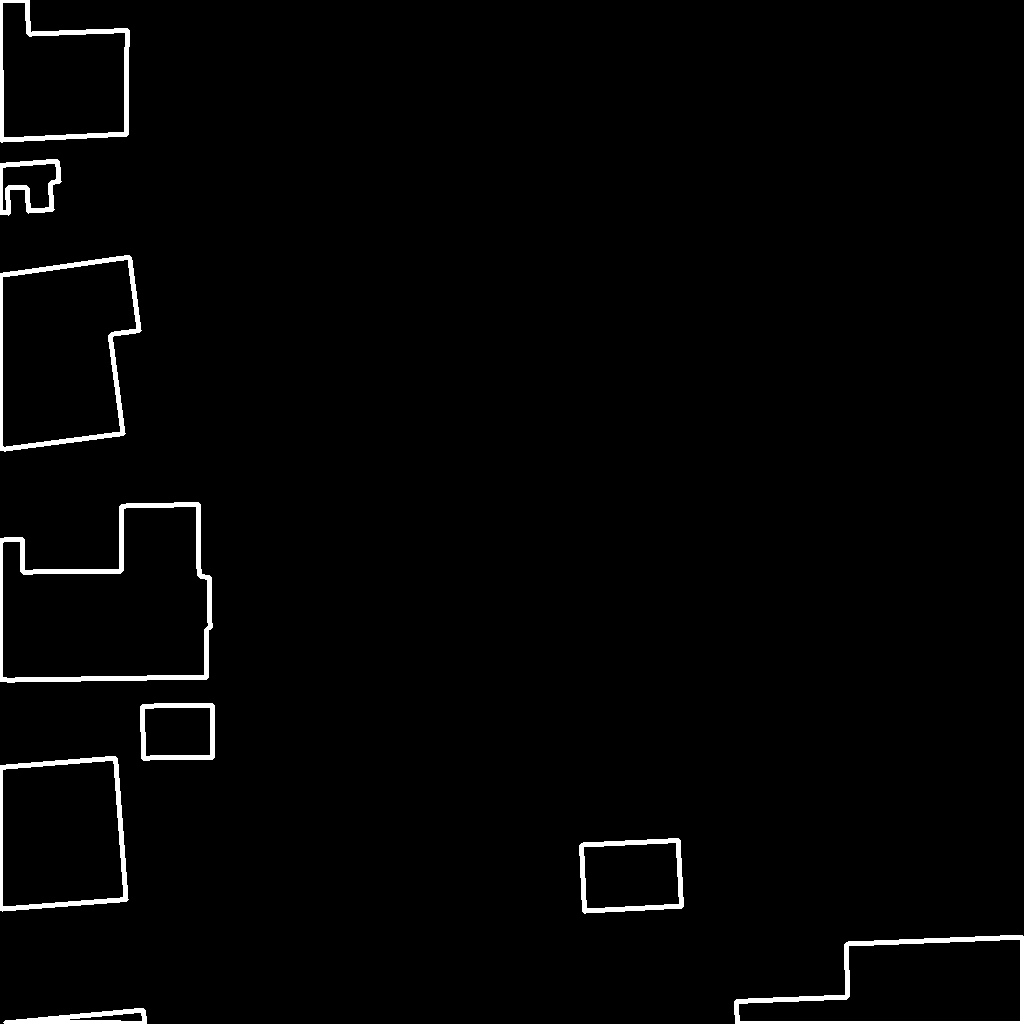building: (0, 504, 211, 681), (0, 257, 140, 450), (736, 937, 1024, 1024), (0, 758, 127, 910), (0, 0, 128, 141), (581, 840, 683, 912), (142, 705, 214, 759), (0, 161, 60, 214), (0, 1010, 146, 1024)
